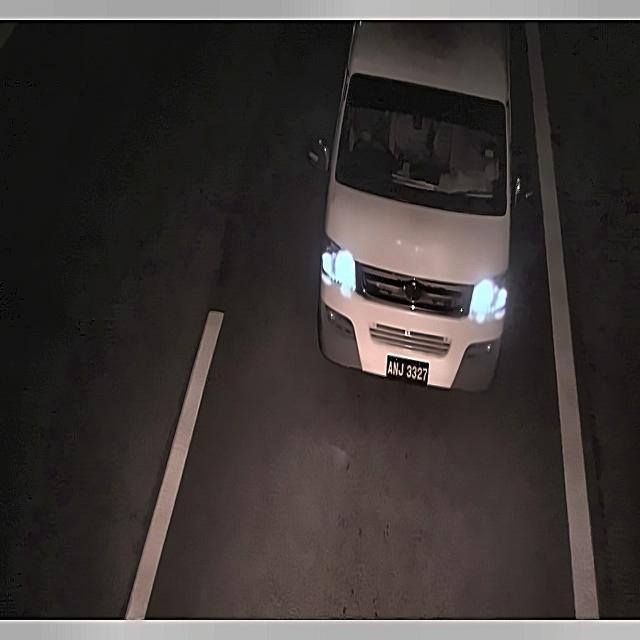car: (378, 351, 437, 391)
